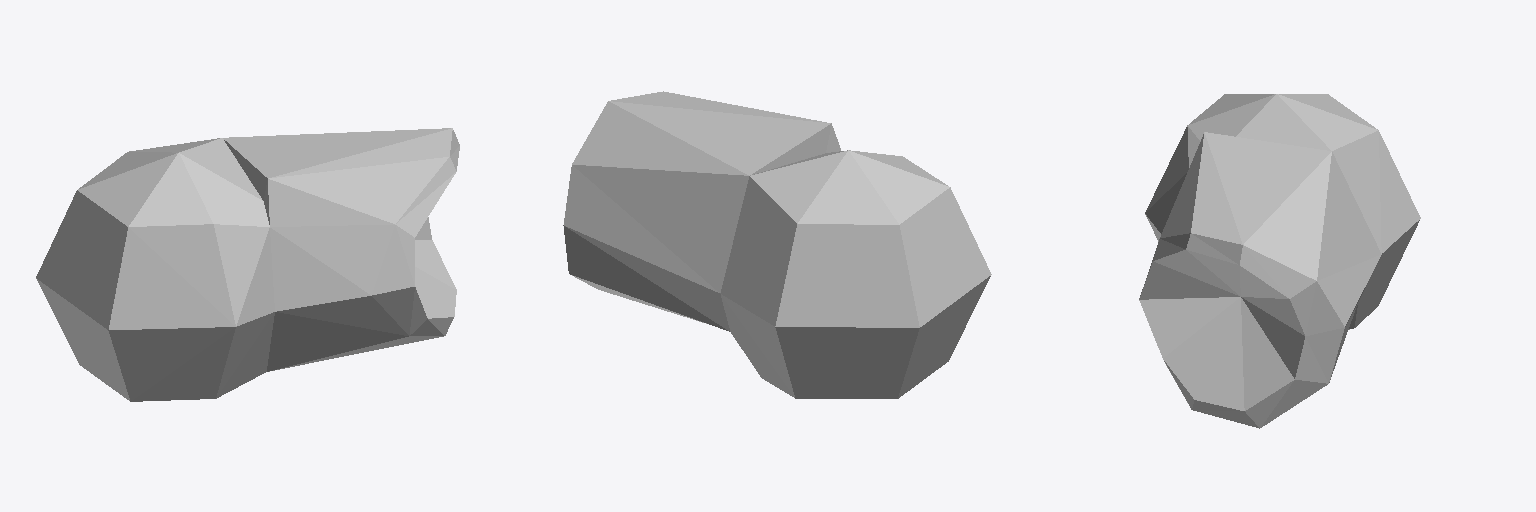
The model's file is buzzlightyLeftArm.obj.
The picture shows the model from 3 angles: view 1: azimuth 30°, elevation 25°; view 2: azimuth 150°, elevation 25°; view 3: azimuth 270°, elevation 25°; orthographic projection.
Parts seen in each view (by area): view 1: buzzlightyLeftArm_buzzlighty.012; view 2: buzzlightyLeftArm_buzzlighty.012; view 3: buzzlightyLeftArm_buzzlighty.012.
Boxes of the visible parts, <box> form: buzzlightyLeftArm_buzzlighty.012: <box>36,128,459,401</box>; buzzlightyLeftArm_buzzlighty.012: <box>563,91,991,398</box>; buzzlightyLeftArm_buzzlighty.012: <box>1139,94,1420,428</box>.
Size of the model in its own units: 0.1718 by 0.1093 by 0.1128.